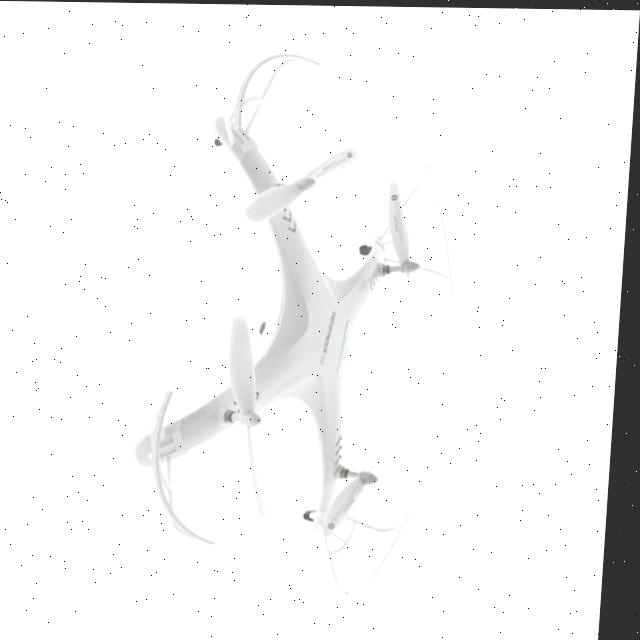drone: (128, 31, 486, 613)
